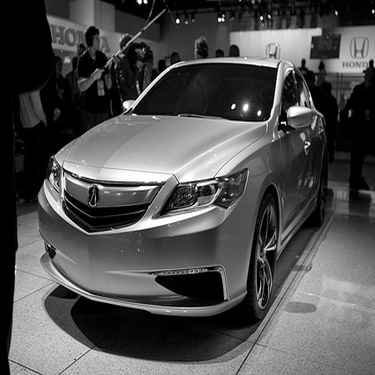car: (38, 46, 331, 332), (339, 48, 369, 217)
